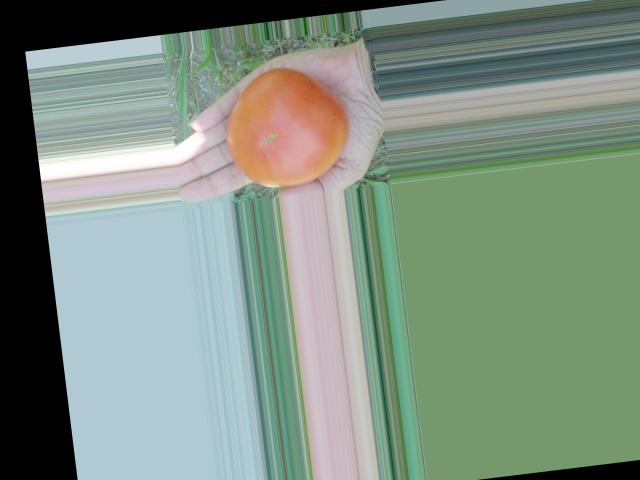tomato: (218, 60, 353, 193)
